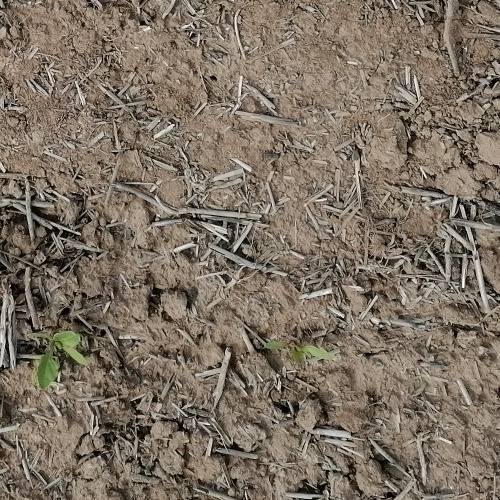beet: (30, 331, 87, 388), (263, 339, 329, 370)
